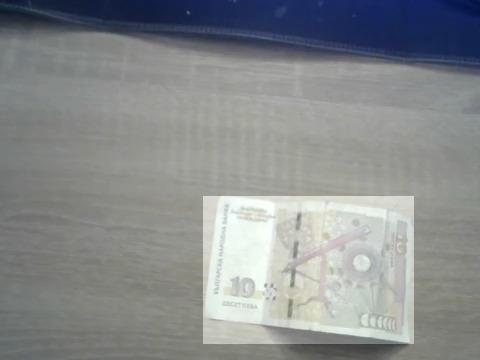10leva: (203, 196, 414, 344)
